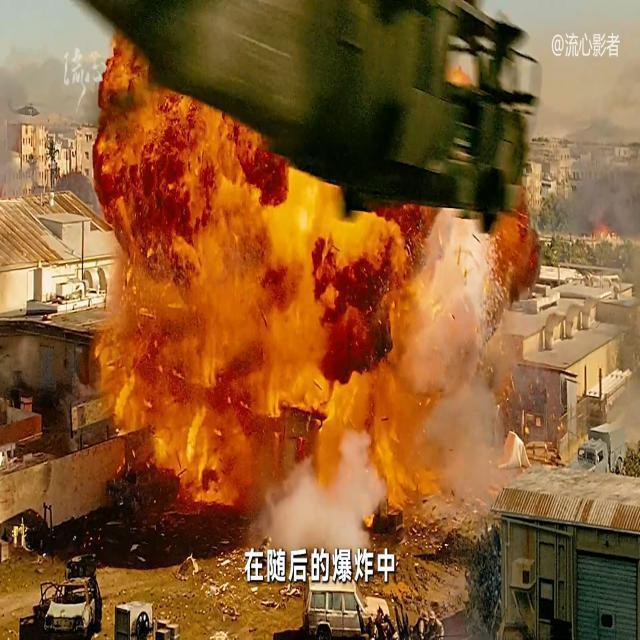fire: (95, 74, 541, 551)
